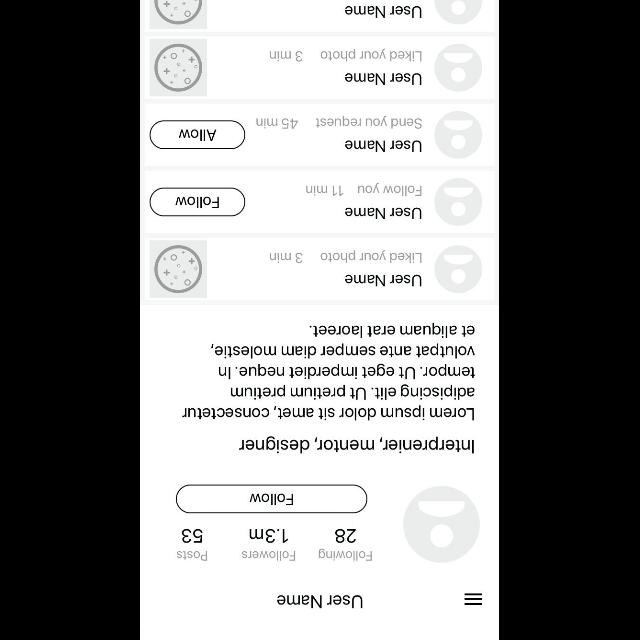icon: (404, 486, 481, 562), (435, 178, 483, 226), (435, 112, 483, 160), (436, 44, 484, 92), (435, 245, 483, 292), (434, 1, 484, 26), (464, 593, 482, 605)
image: (150, 40, 208, 96), (151, 242, 207, 298), (150, 1, 208, 30)
text: (183, 324, 477, 422), (238, 436, 476, 454), (316, 114, 422, 130), (321, 48, 425, 64), (321, 250, 423, 264), (277, 593, 363, 609), (344, 4, 424, 20), (344, 72, 424, 86), (344, 206, 422, 220), (346, 139, 422, 153), (358, 182, 422, 198), (344, 274, 422, 286), (320, 547, 372, 561), (242, 550, 296, 562), (249, 529, 289, 543), (257, 118, 299, 130), (306, 186, 344, 197), (270, 252, 304, 264), (176, 550, 208, 562), (270, 50, 304, 61), (335, 528, 357, 544), (181, 528, 203, 544)
textbutton: (176, 484, 368, 514), (150, 187, 246, 217), (150, 120, 246, 150)
